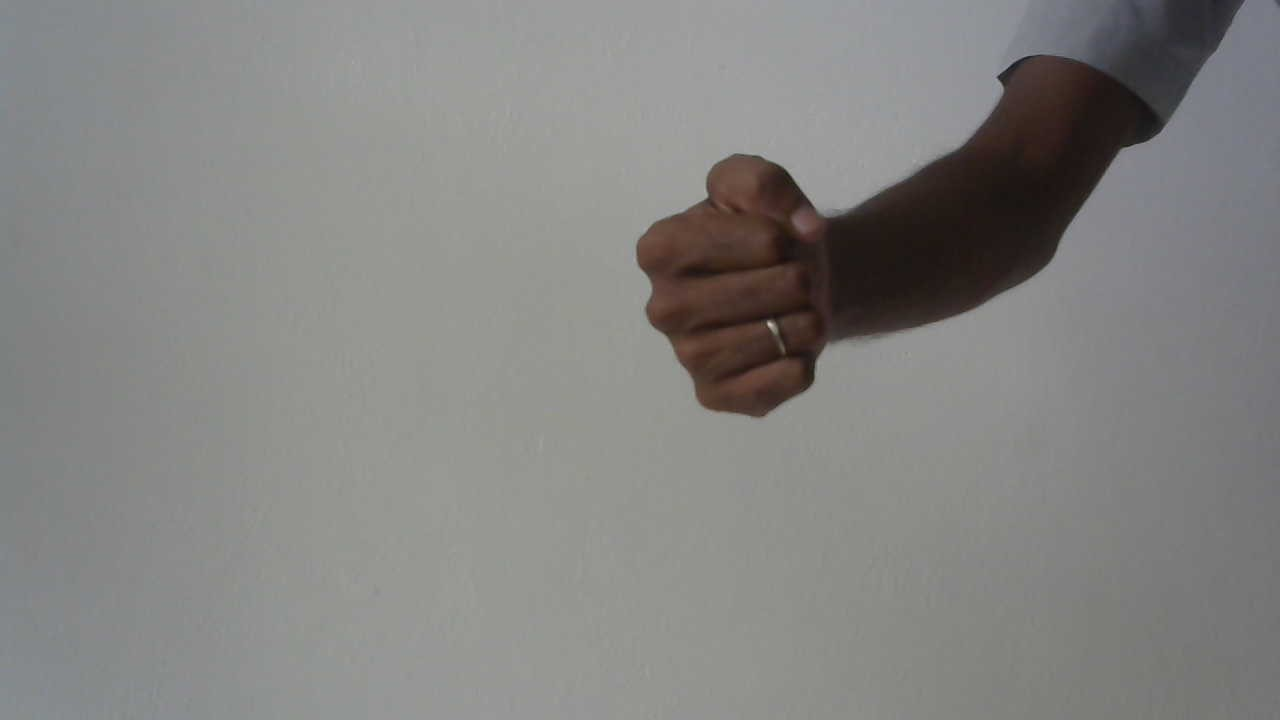yes: (624, 145, 862, 428)
